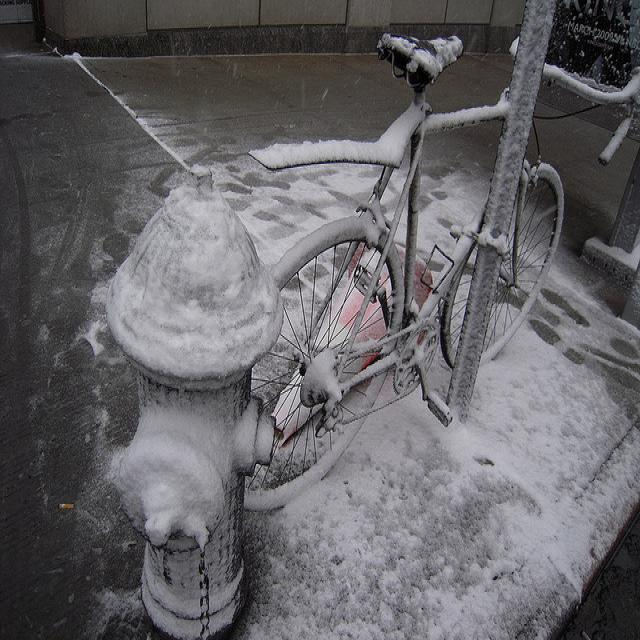fire_hydrant: (104, 166, 284, 630)
